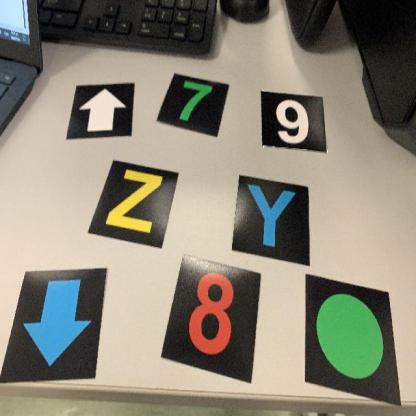7: (156, 68, 231, 143)
8: (161, 251, 263, 384)
9: (262, 89, 330, 155)
down: (3, 265, 109, 384)
go: (305, 273, 404, 408)
up: (65, 81, 135, 141)
y: (232, 173, 313, 268)
z: (87, 156, 181, 252)
